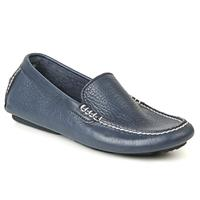shoe: (5, 54, 193, 154)
